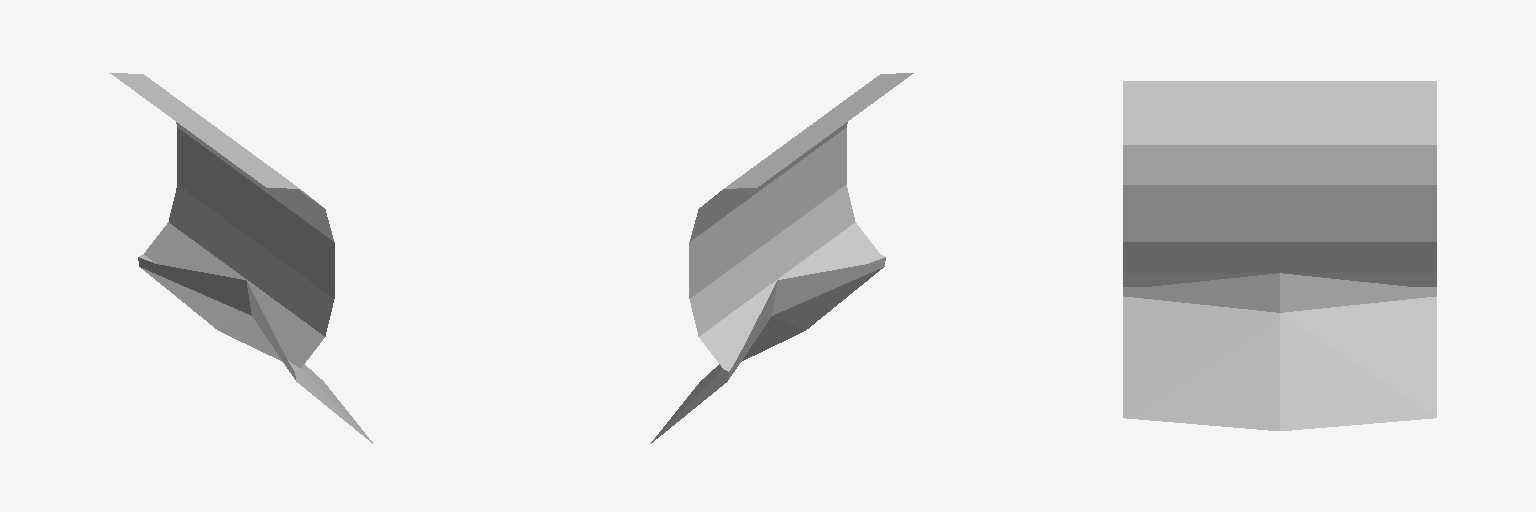
Rendered from Terrain_Cliff_1_Tall_Side.obj.
The picture shows the model from 3 angles: view 1: azimuth 30°, elevation 25°; view 2: azimuth 150°, elevation 25°; view 3: azimuth 270°, elevation 25°; orthographic projection.
Visible parts, largest first — view 1: Grass, Rock; view 2: Grass, Rock; view 3: Grass, Rock.
Boxes of the visible parts, x1,y1,x2,y2 form: Grass: [110, 73, 334, 371]; Rock: [138, 257, 372, 443]; Grass: [689, 73, 913, 371]; Rock: [651, 257, 885, 443]; Grass: [1123, 81, 1436, 286]; Rock: [1123, 273, 1436, 430].
Bounding box in the file's own units: 0.5 × 1 × 1.